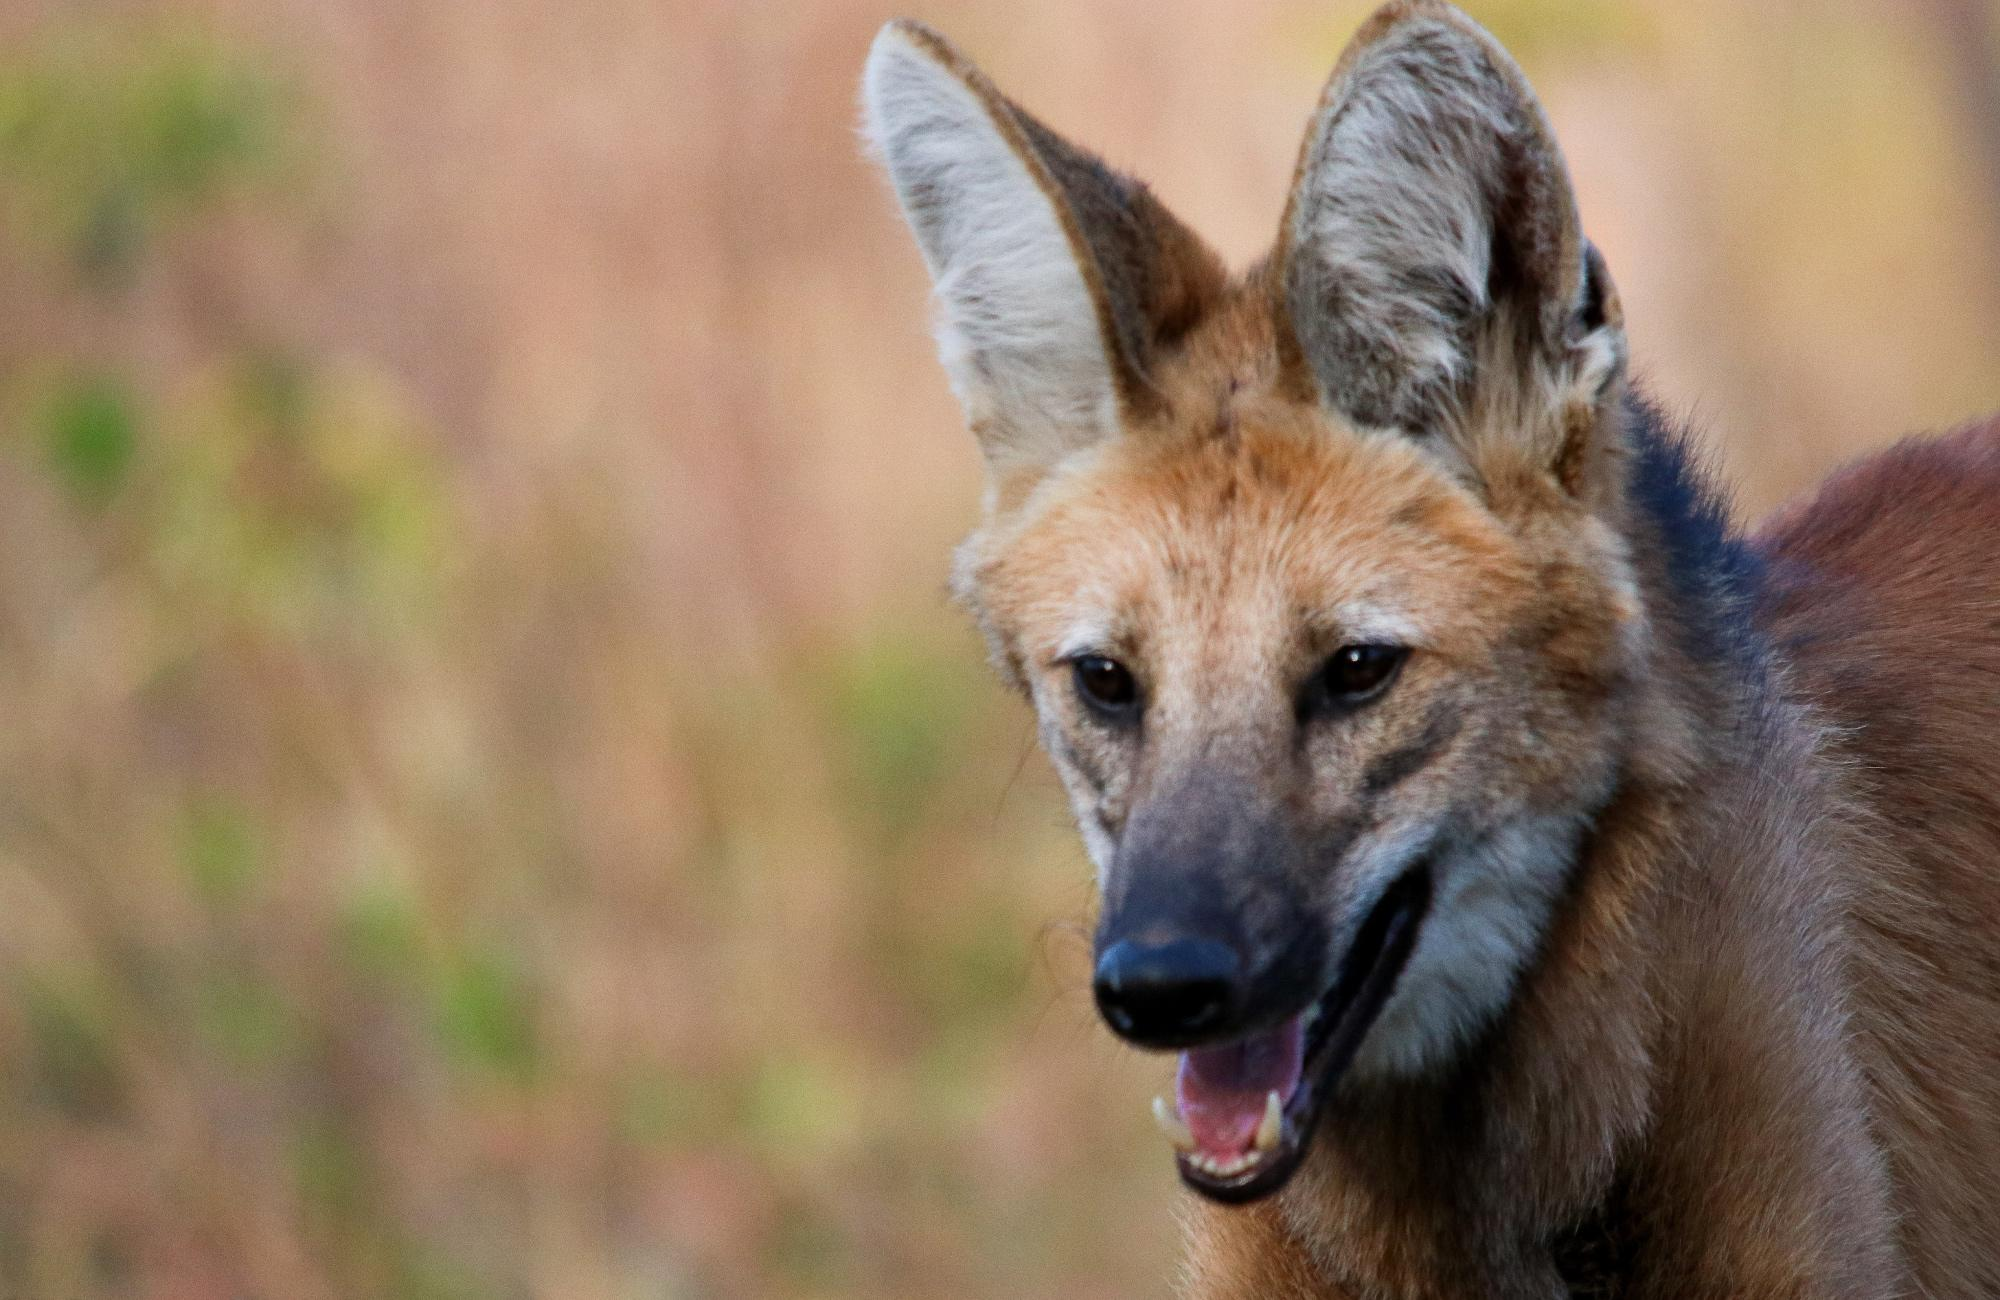LoboGuara: (824, 4, 1990, 1280)
